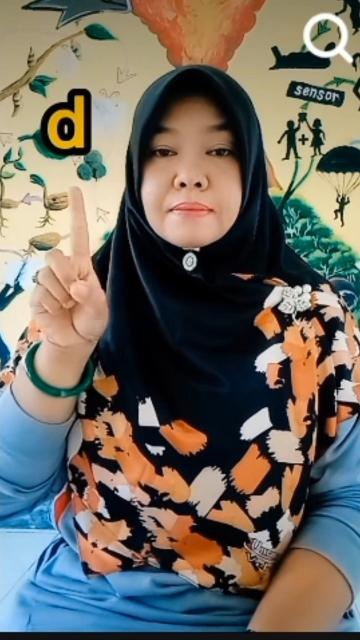D: (23, 187, 112, 355)
